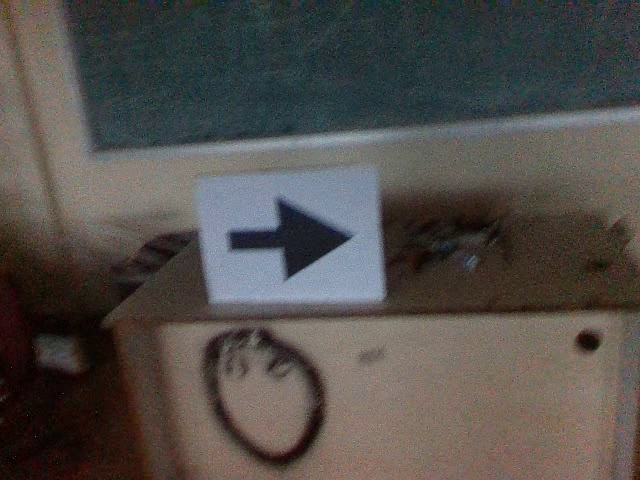Right: (216, 188, 358, 284)
